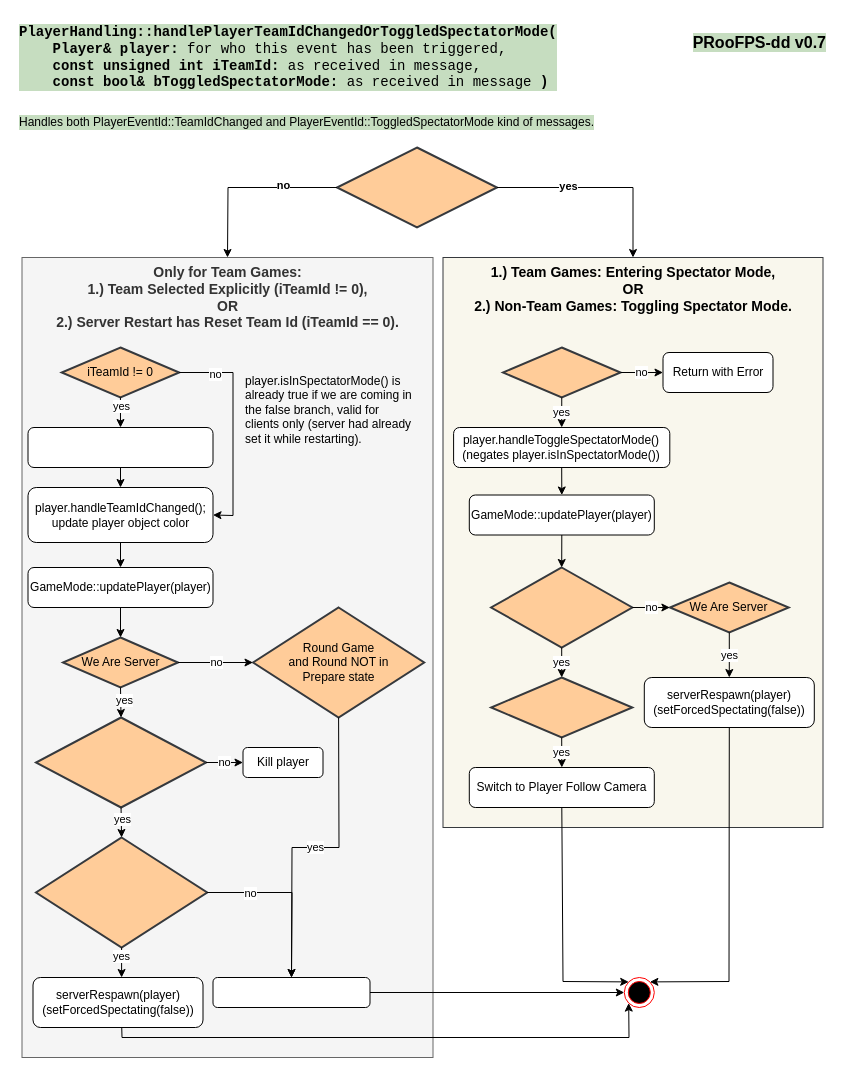
The diagram is 846 pixels wide and 1075 high, and some of its shapes have lost their labels. Each missing label, with the box of its shape:
bToggled SpectatorMode: (336, 146, 498, 228)
First Team Select or Same Team Select: (34, 716, 207, 808)
iTeamId == 0: (502, 346, 621, 398)
Now player is in Spectator Mode: (490, 566, 633, 648)
player .setForcedSpectating(true): (212, 976, 370, 1008)
player. isInSpectatorMode() := false: (27, 426, 213, 468)
Round in Prepare state or Not Round Game: (34, 836, 208, 948)
We are this player: (490, 676, 633, 738)
